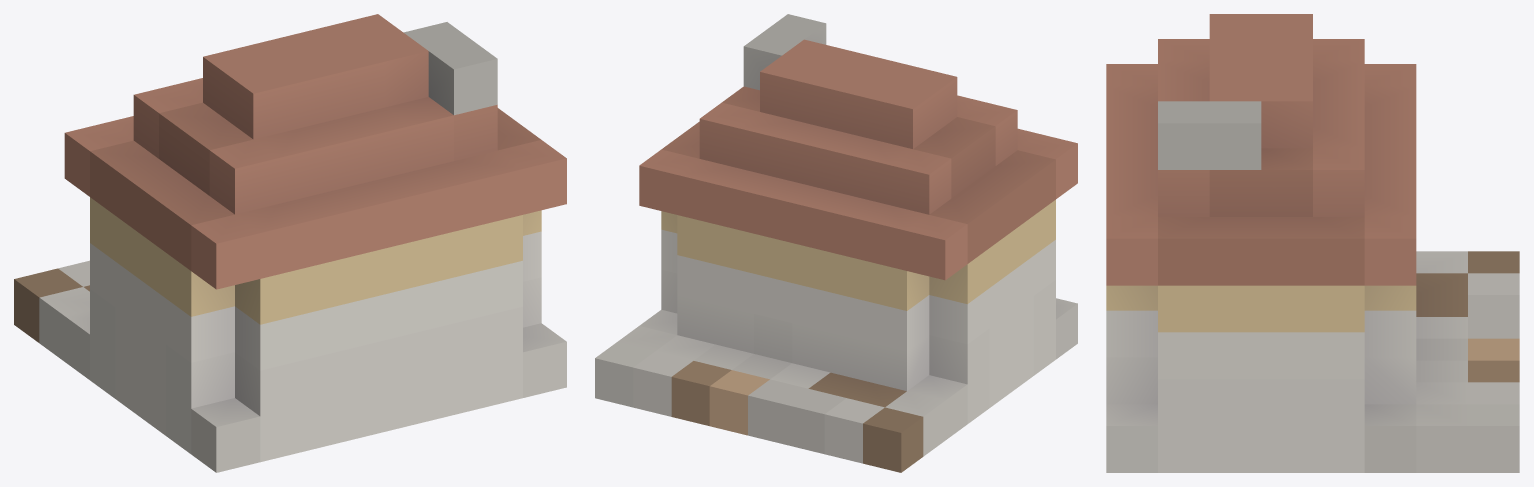
Rendered from goldsmith.lite.glb.
3 renders of one model, left to right at view 1: azimuth 30°, elevation 25°; view 2: azimuth 150°, elevation 25°; view 3: azimuth 270°, elevation 25°, orthographic. The views are drawn at different scales.
Parts seen in each view (by area): view 1: goldsmith; view 2: goldsmith; view 3: goldsmith.
Boxes of the visible parts, <box> form: goldsmith: <box>14,14,566,472</box>; goldsmith: <box>595,14,1077,472</box>; goldsmith: <box>1106,14,1519,472</box>.
Bounding box in the file's own units: 4 × 3.5 × 4.
